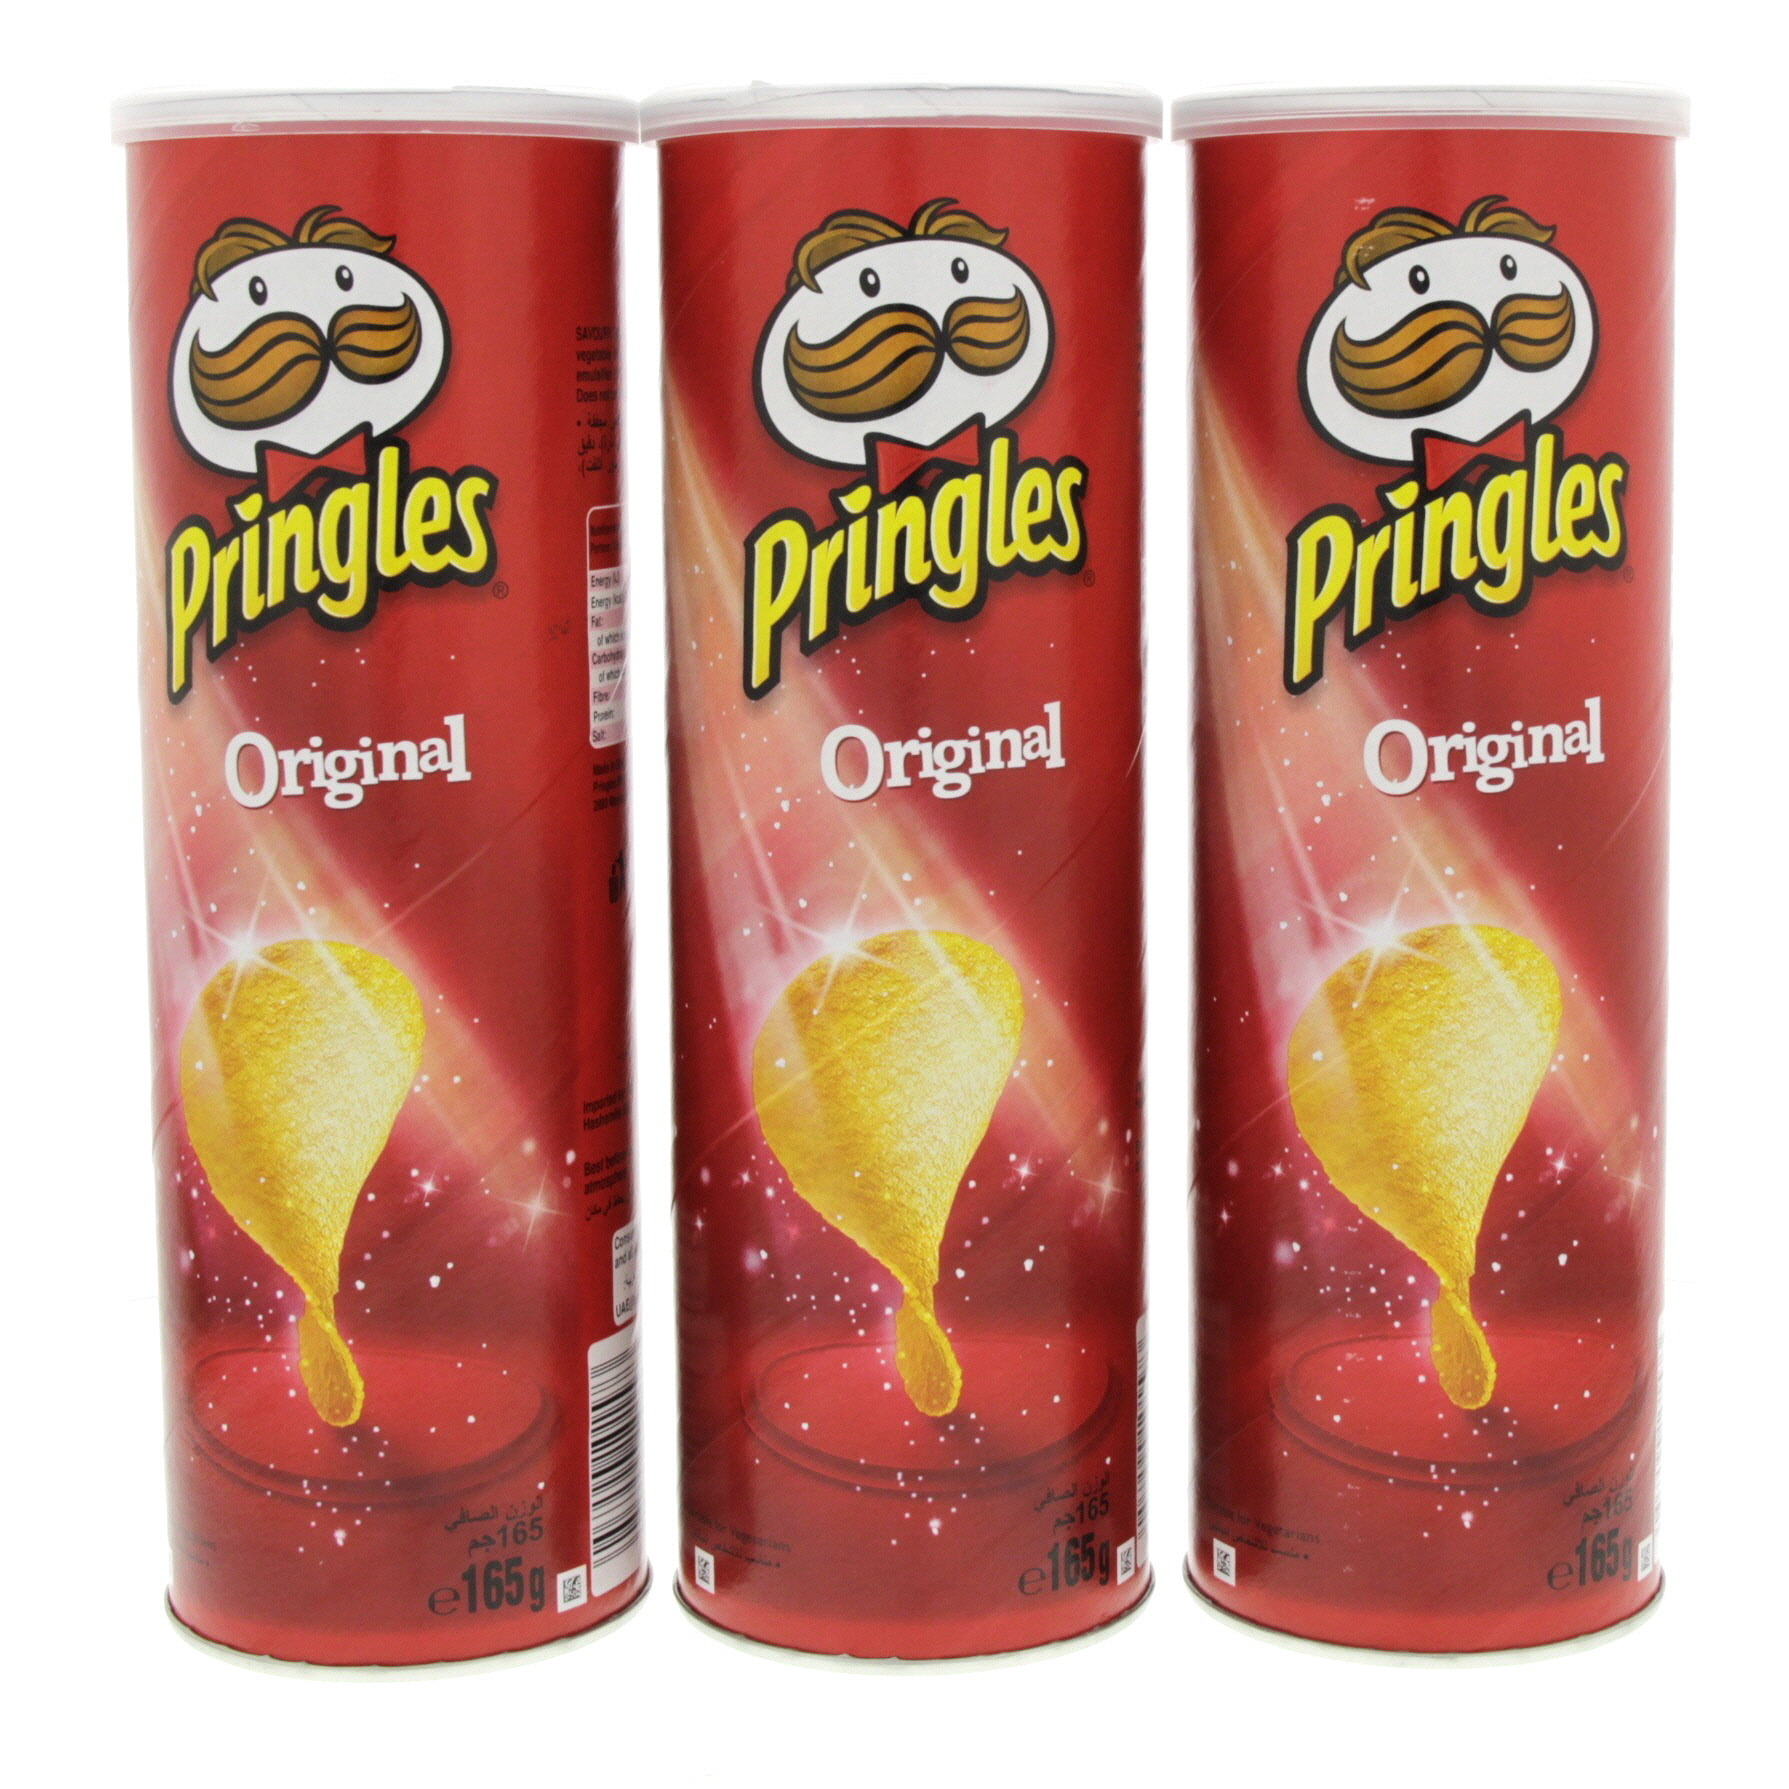pringle: (92, 84, 650, 1679), (1175, 43, 1686, 1655), (672, 79, 1165, 1683)
